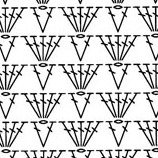enseble_chain: (109, 87, 147, 125), (110, 30, 147, 67), (35, 88, 71, 125), (34, 30, 70, 67), (74, 117, 109, 154), (0, 60, 34, 97), (0, 117, 34, 154), (74, 3, 108, 39), (92, 87, 122, 124), (19, 30, 48, 66), (19, 89, 48, 124), (130, 117, 158, 153), (35, 119, 65, 151), (110, 118, 139, 151), (71, 91, 99, 123), (96, 31, 122, 65), (35, 62, 63, 93), (59, 117, 84, 151), (71, 34, 99, 64), (112, 62, 138, 93), (60, 4, 84, 35), (135, 61, 158, 93), (112, 6, 136, 36), (27, 119, 50, 150), (0, 35, 23, 65), (37, 7, 60, 36), (27, 3, 47, 35), (0, 93, 22, 122), (140, 89, 158, 122), (75, 63, 92, 90), (1, 7, 17, 34), (144, 5, 158, 34)
fan: (31, 92, 48, 120)
